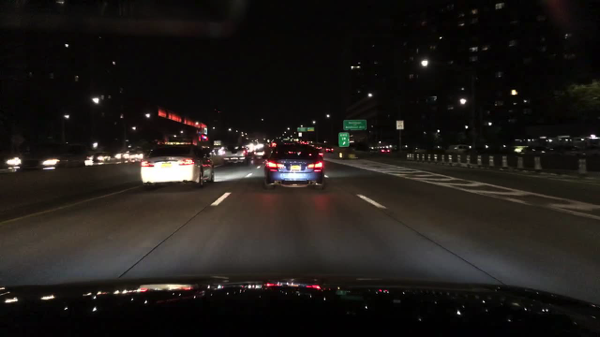car: (140, 141, 215, 191), (262, 140, 324, 191), (221, 145, 250, 167), (555, 143, 579, 153), (511, 146, 545, 152), (253, 147, 267, 159), (452, 144, 470, 153), (90, 154, 110, 162), (533, 144, 555, 151), (116, 151, 132, 160), (7, 157, 22, 166), (211, 148, 227, 156), (323, 143, 334, 154), (132, 152, 143, 162), (43, 159, 61, 165), (556, 137, 572, 142), (386, 144, 397, 151), (573, 137, 587, 142), (536, 138, 552, 142), (316, 143, 323, 152), (247, 147, 252, 159), (434, 143, 443, 149), (513, 138, 523, 143), (307, 142, 316, 147), (401, 145, 410, 150), (413, 145, 421, 150), (525, 138, 535, 142), (369, 145, 376, 150), (381, 145, 388, 150), (375, 146, 383, 149)
traffic sign: (343, 119, 367, 131), (338, 132, 349, 148), (396, 120, 404, 131), (298, 125, 308, 133), (213, 139, 222, 146), (307, 125, 315, 132), (297, 132, 303, 137)
